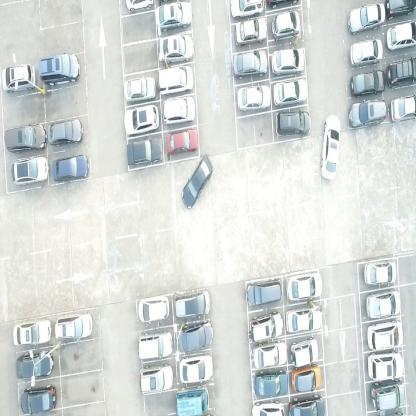car: (182, 150, 212, 210), (39, 51, 79, 87), (320, 113, 340, 182), (4, 122, 45, 154), (13, 314, 51, 348), (285, 269, 323, 302), (347, 2, 385, 35), (54, 308, 93, 340), (179, 318, 214, 353), (248, 310, 284, 344), (174, 287, 211, 320), (348, 97, 386, 129), (158, 64, 194, 97), (123, 102, 159, 135), (366, 320, 404, 351), (246, 276, 282, 308), (178, 352, 214, 384), (232, 48, 268, 80), (155, 1, 191, 33), (20, 383, 57, 414), (367, 352, 405, 382), (11, 155, 49, 185), (16, 349, 53, 379), (285, 305, 323, 334), (139, 362, 173, 394), (2, 61, 36, 93), (126, 136, 162, 166), (52, 153, 88, 183), (176, 383, 209, 415), (162, 95, 196, 126), (160, 34, 194, 65), (138, 330, 173, 360), (47, 118, 83, 147), (372, 381, 406, 411), (252, 340, 286, 370), (273, 77, 307, 107), (348, 38, 383, 67), (366, 291, 402, 319), (349, 70, 385, 98), (275, 109, 311, 137), (234, 16, 267, 46), (238, 83, 271, 113), (166, 126, 199, 156), (124, 74, 156, 104), (137, 294, 170, 323), (386, 55, 415, 88), (290, 364, 322, 393), (272, 9, 301, 41), (254, 371, 289, 397), (386, 20, 416, 50), (271, 49, 304, 76), (362, 260, 398, 284), (290, 338, 319, 366), (288, 394, 326, 415), (390, 94, 416, 123), (231, 0, 265, 22), (385, 0, 416, 21), (250, 398, 284, 416), (126, 0, 154, 15)
